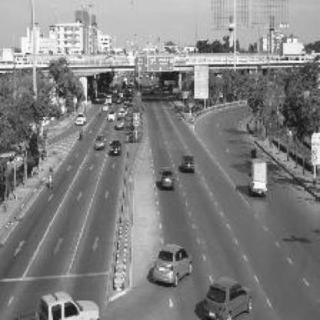other: (40, 286, 104, 316)
